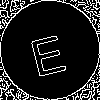E: (25, 25, 69, 78)
